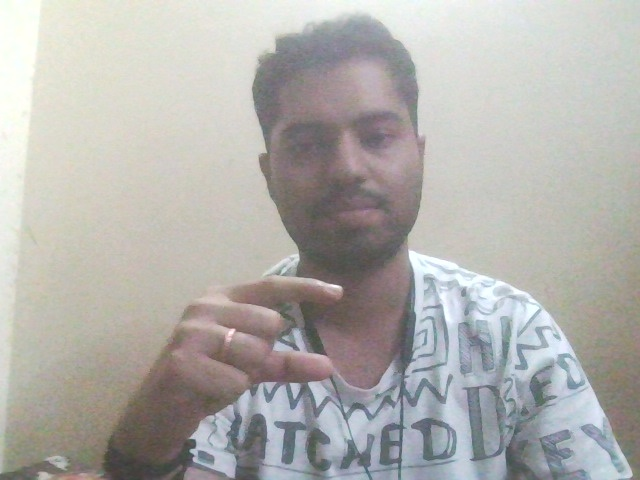Q: (91, 270, 359, 439)
